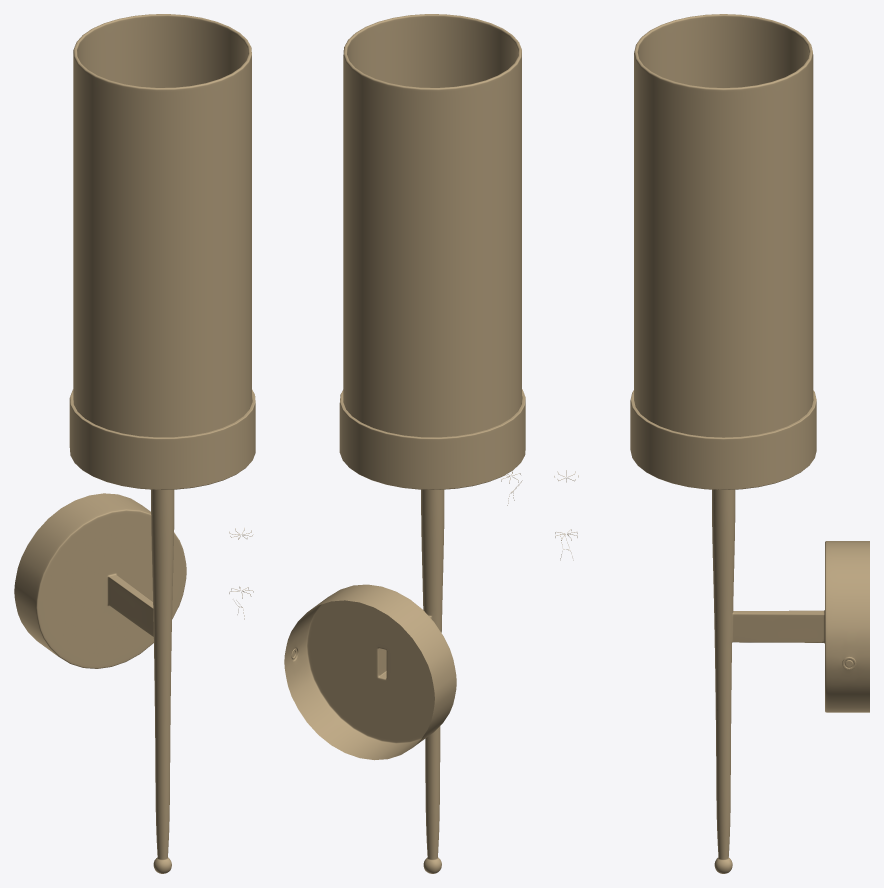
The model's file is vertical-sconce.glb.
3 views of the same model, side by side, from view 1: azimuth 30°, elevation 25°; view 2: azimuth 150°, elevation 25°; view 3: azimuth 270°, elevation 25° (orthographic).
Parts seen in each view (by area): view 1: glass_body, lamp_body; view 2: glass_body, lamp_body; view 3: glass_body, lamp_body.
Boxes of the visible parts, x1,y1,x2,y2 form: glass_body: (73,14,251,437); lamp_body: (14,389,255,873); glass_body: (343,14,521,437); lamp_body: (284,389,525,873); glass_body: (634,14,813,437); lamp_body: (630,390,869,873).
Bounding box in the file's own units: 0.0969 × 0.4714 × 0.1642.
